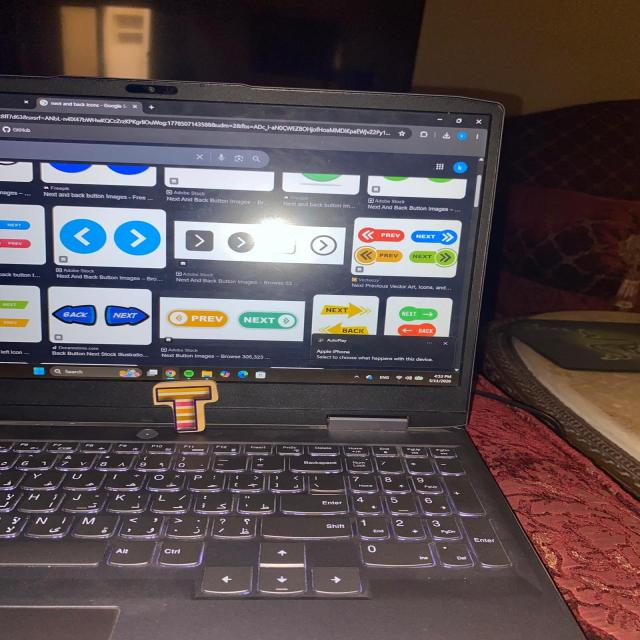T: (154, 381, 218, 432)
